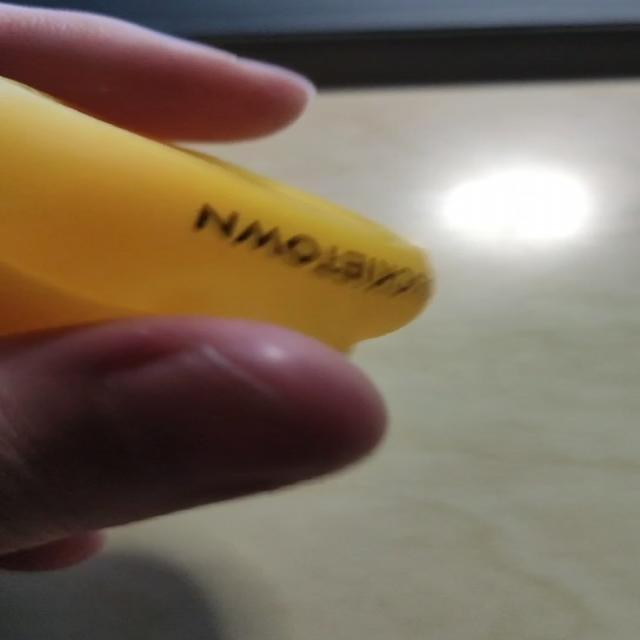rubber-duck: (0, 76, 431, 347)
